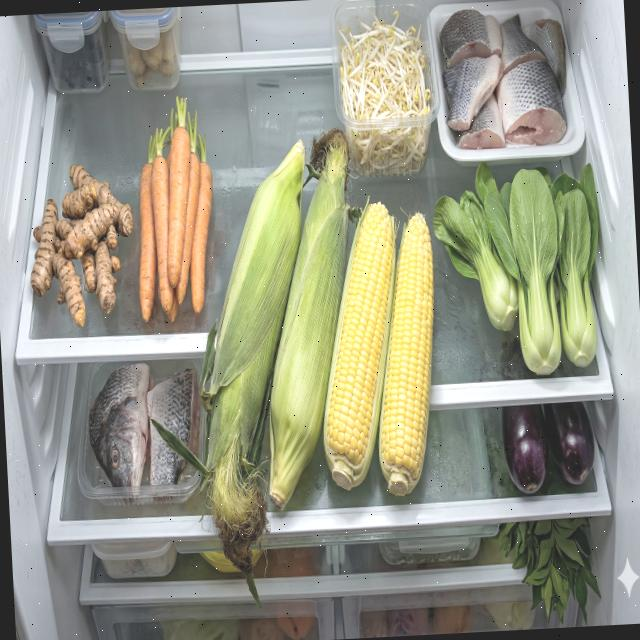bean_sprouts: (336, 3, 436, 180)
carrot: (131, 126, 221, 324)
corn: (186, 120, 452, 612)
curry_leaves: (498, 515, 604, 630)
eggplant: (500, 401, 598, 497)
fish: (439, 2, 572, 150), (84, 360, 204, 506)
pakchoy: (430, 157, 608, 381)
turmeric: (24, 160, 140, 332)
